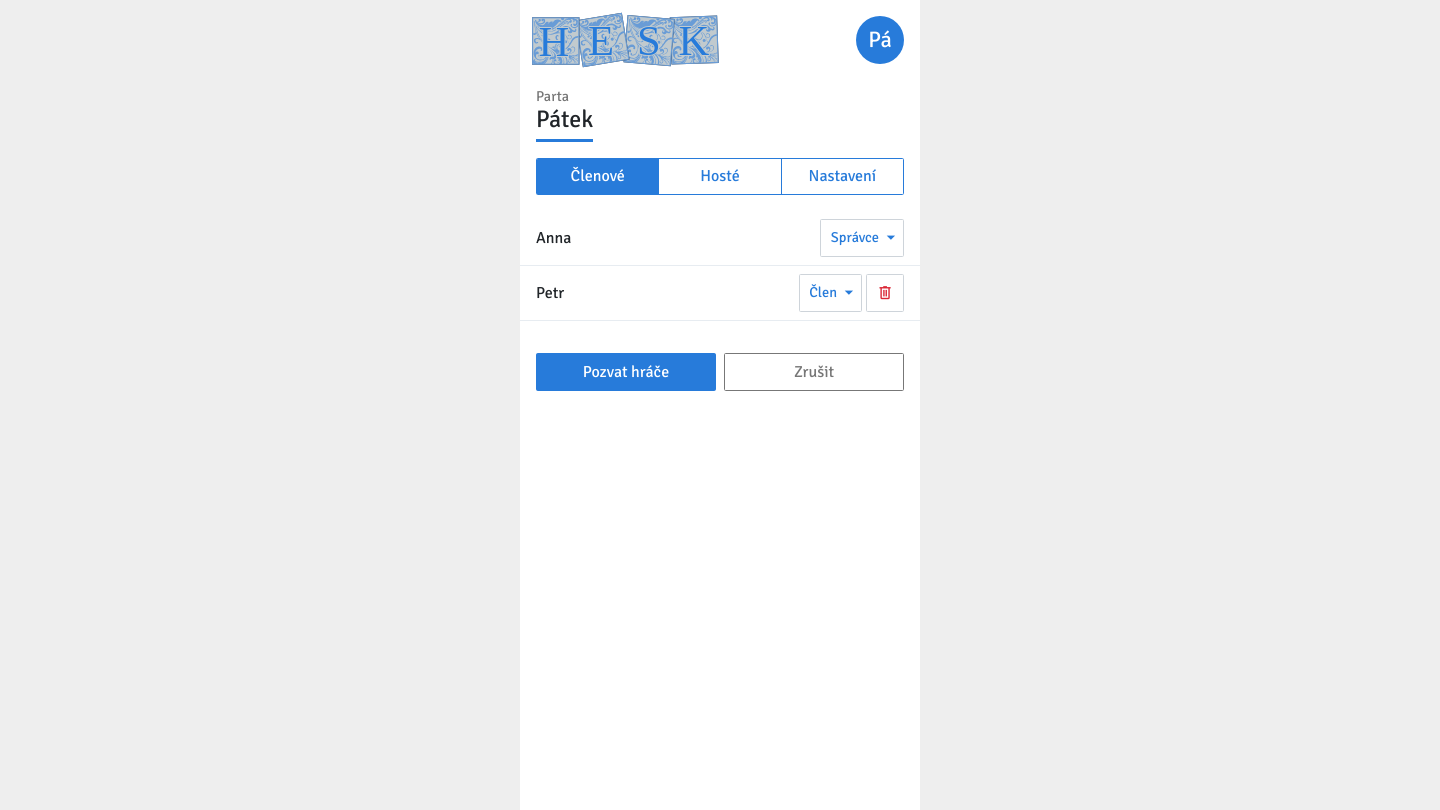
Test case: party detail (/parties/:id) › removes a member with the trash icon button after confirming in a popup that explains what happens
The image size is (1440, 810).
Click the button named "Odebrat Petr". click: (885, 293)
box: x1=866 y1=274 x2=904 y2=312
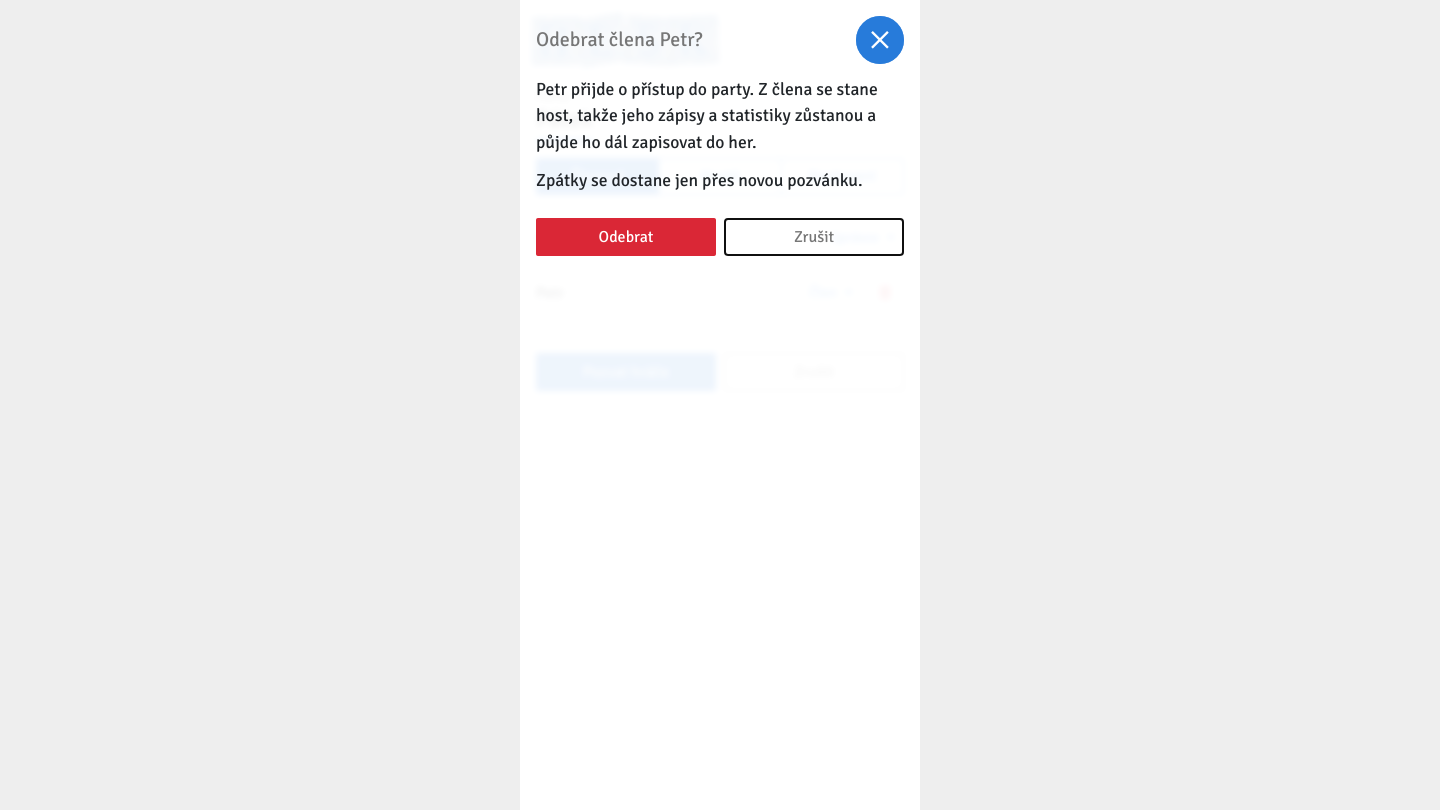
Check: the text "Z člena se stane host" is shown, box x1=536 y1=78 x2=878 y2=153
Click the button "Odebrat". click: (626, 237)
box: x1=536 y1=218 x2=716 y2=256
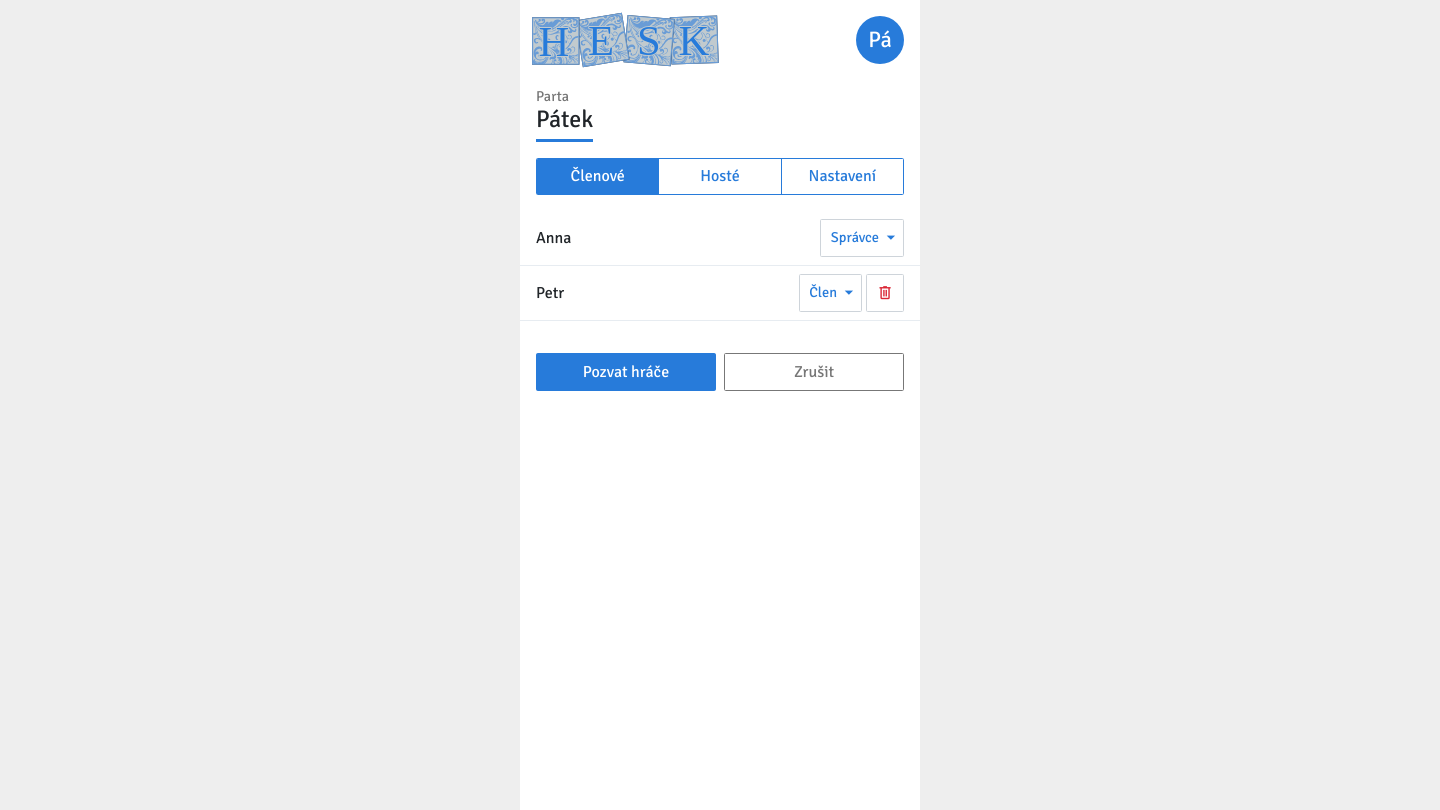
Check: the dialog is gone
